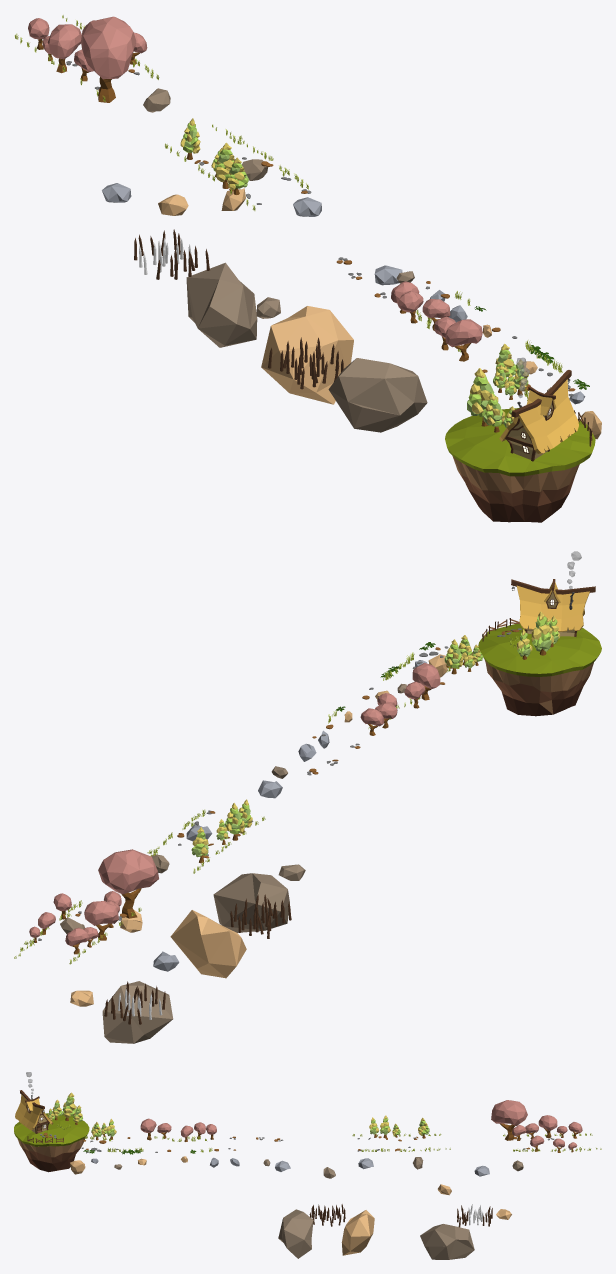
Rendered from environment.fbx.
3 views of the same model, one above another, from view 1: azimuth 30°, elevation 25°; view 2: azimuth 150°, elevation 25°; view 3: azimuth 270°, elevation 25° (orthographic). The views are drawn at different scales.
Parts seen in each view (by area): view 1: Island, Rock 3.006, Rock 2.006, Rock 2.007, House, Tree 1.006, Tree 1.008, Tree 1.003, Tree 2.007; view 2: Island, Rock 3.006, Rock 2.006, House, Rock 2.007, Tree 1.006, Tree 1.008; view 3: Island, Rock 2.007, Rock 2.006, Rock 3.006, House, Tree 1.006, Tree 1.008.
Boxes of the visible parts, <box> form: Island: <box>445,408,595,522</box>; Rock 3.006: <box>261,306,353,404</box>; Rock 2.006: <box>328,358,427,432</box>; Rock 2.007: <box>186,262,257,347</box>; House: <box>499,357,578,461</box>; Tree 1.006: <box>81,16,136,102</box>; Tree 1.008: <box>47,24,81,73</box>; Tree 1.003: <box>445,319,482,361</box>; Tree 2.007: <box>467,368,498,426</box>; Island: <box>478,624,601,716</box>; Rock 3.006: <box>170,910,246,978</box>; Rock 2.006: <box>213,873,289,932</box>; House: <box>511,551,595,636</box>; Rock 2.007: <box>102,981,173,1043</box>; Tree 1.006: <box>98,849,158,918</box>; Tree 1.008: <box>84,901,118,940</box>; Island: <box>14,1113,89,1172</box>; Rock 2.007: <box>420,1224,474,1259</box>; Rock 2.006: <box>278,1209,313,1258</box>; Rock 3.006: <box>341,1210,374,1255</box>; House: <box>15,1072,53,1133</box>; Tree 1.006: <box>491,1100,527,1140</box>; Tree 1.008: <box>538,1115,557,1138</box>.
Size of the model in its own units: 1156 by 1663 by 5608.
